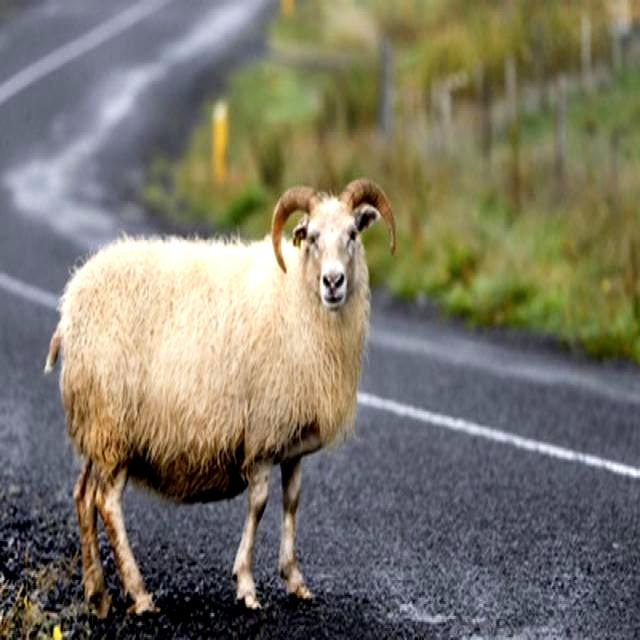sheep: (45, 180, 397, 616)
